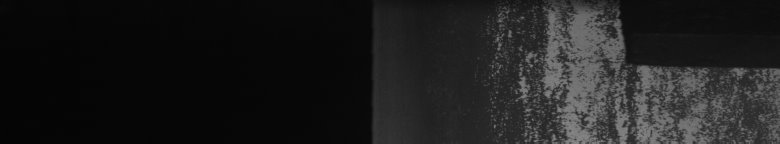kb: (500, 0, 693, 144)
